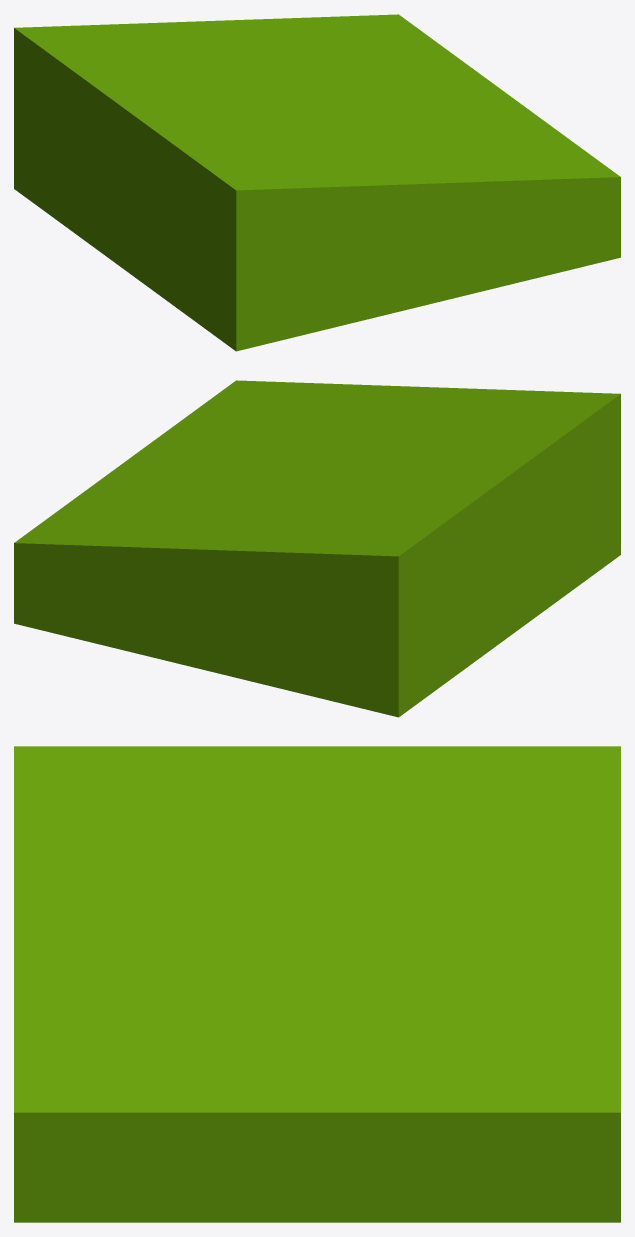
File: TileGround_47.fbx
3 views of the same model, one above another, from view 1: azimuth 30°, elevation 25°; view 2: azimuth 150°, elevation 25°; view 3: azimuth 270°, elevation 25° (orthographic). The views are drawn at different scales.
Visible parts, largest first — view 1: TileGround_47; view 2: TileGround_47; view 3: TileGround_47.
Part boxes in pixels (x1,y1,x2,y2): TileGround_47: (14,14,620,351); TileGround_47: (14,380,620,717); TileGround_47: (14,746,620,1222).
Size of the model in its own units: 500 by 200 by 500.
